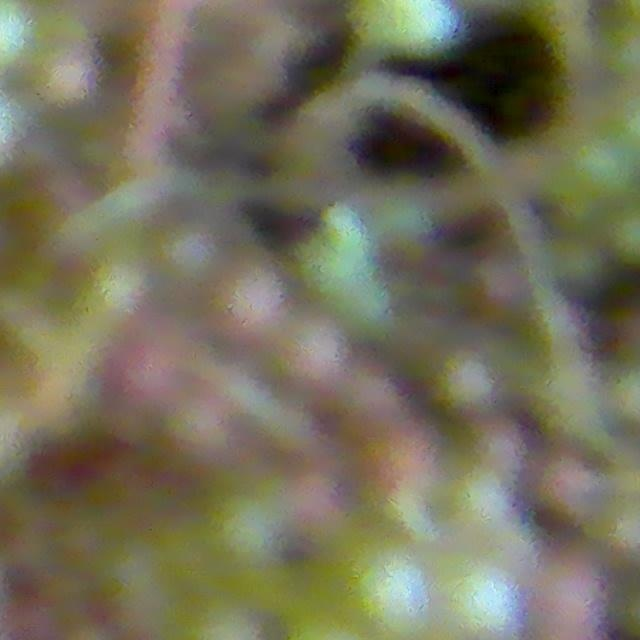SeaGrape: (343, 554, 436, 640), (554, 128, 640, 213), (207, 259, 286, 350), (442, 560, 525, 640), (519, 450, 592, 535), (529, 549, 599, 637), (353, 422, 423, 495), (286, 319, 334, 407), (331, 361, 393, 426)
